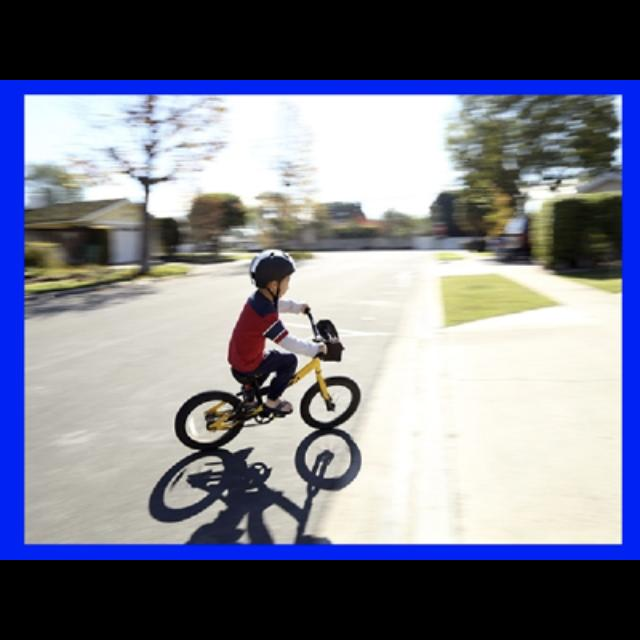With Helmet: (245, 238, 298, 304)
